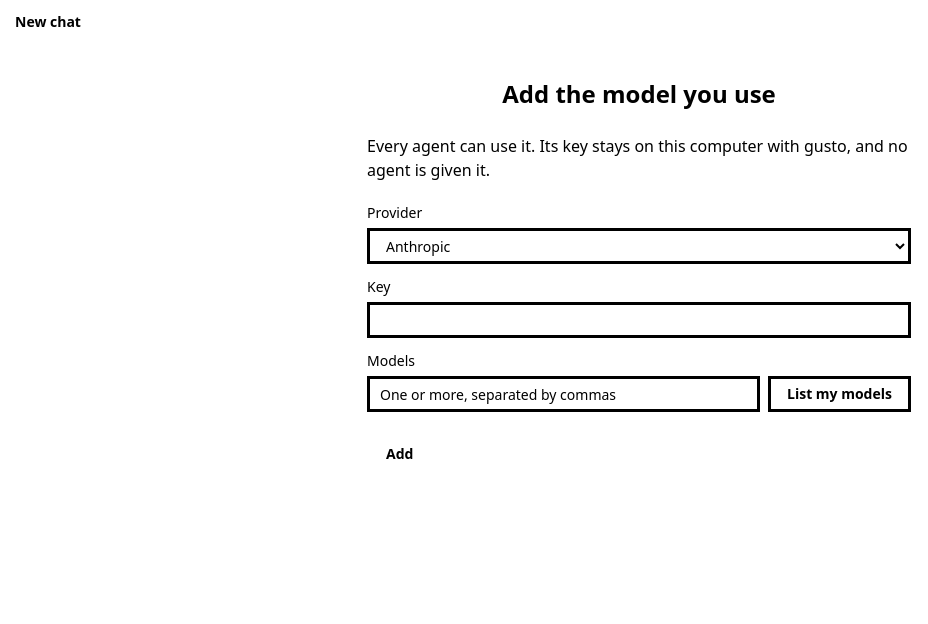
Test: a new chat › asks for the first model before anything, with the provider filling in where it answers
Expected: the heading "Add the model you use" is shown, [502,78,776,110]
Expected: the field labelled "Address" is not shown
Select "Another provider" in the dropdown labelled "Provider": (639, 246) [367,228,911,264]
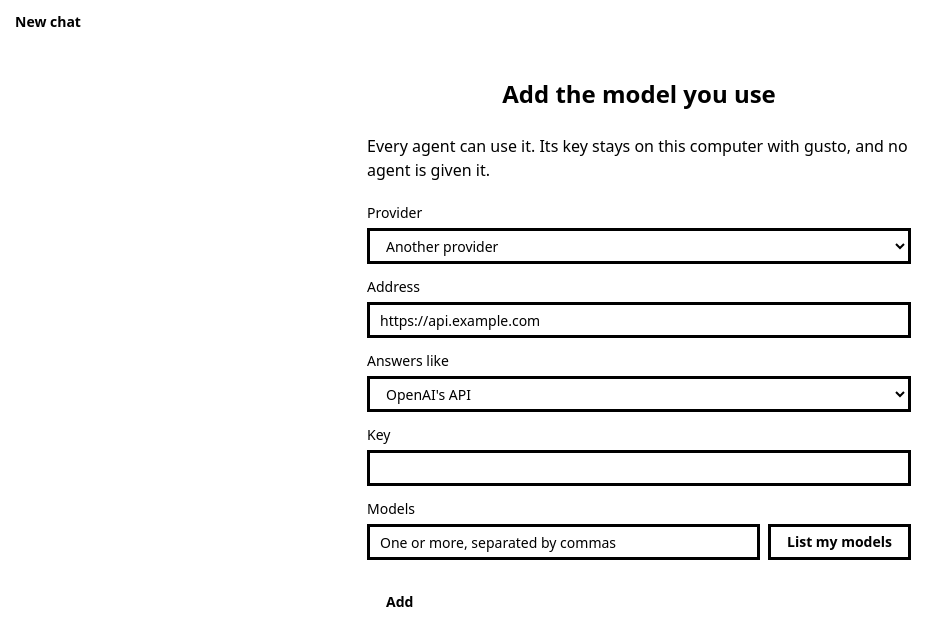
Expected: the field labelled "Address" is shown, [367,302,911,338]
Expected: the dropdown labelled "Answers like" is shown, [367,376,911,412]
